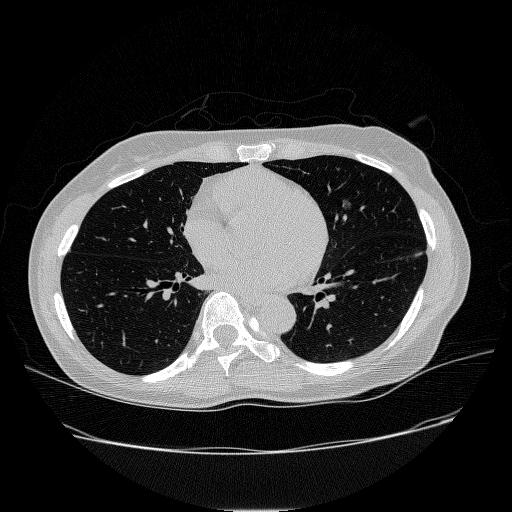nodule: (340, 199, 352, 211)
